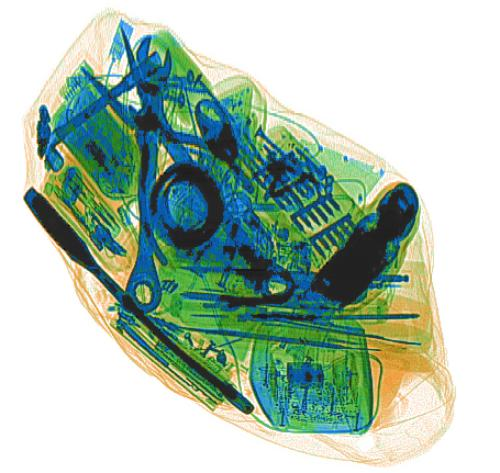battery: (41, 57, 144, 199)
